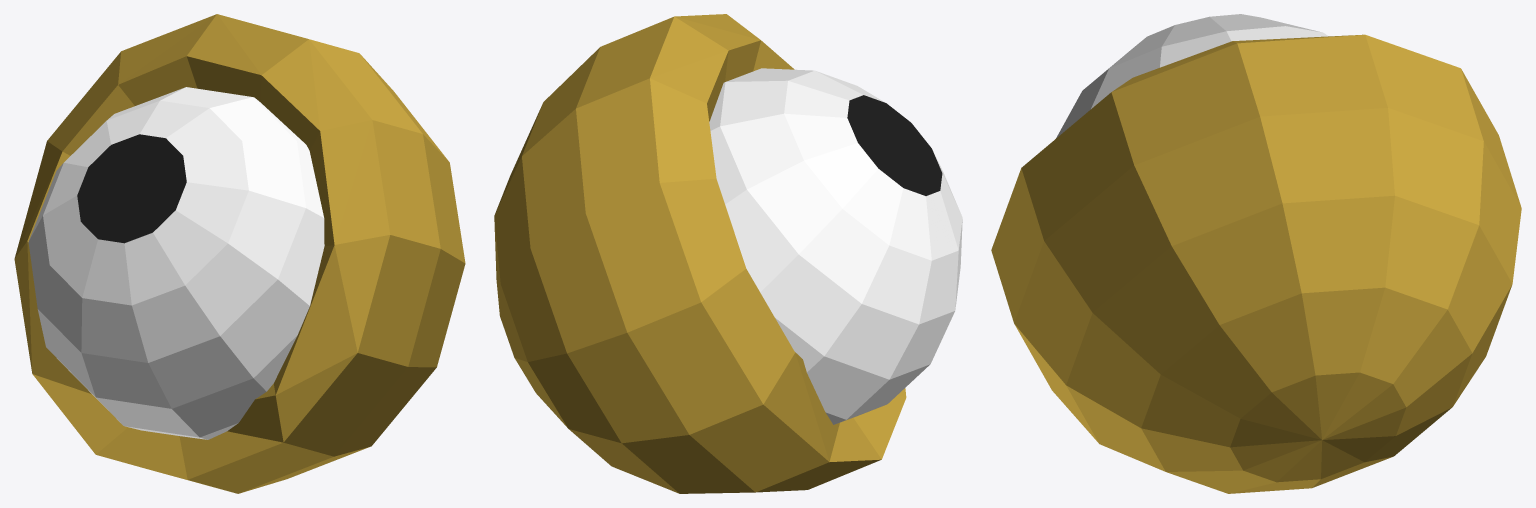
File: EyeOjoLoco.glb
The picture shows the model from 3 angles, left to right: view 1: azimuth 30°, elevation 25°; view 2: azimuth 150°, elevation 25°; view 3: azimuth 270°, elevation 25°; orthographic projection. The views are drawn at different scales.
Parts seen in each view (by area): view 1: EyeOjoLoco; view 2: EyeOjoLoco; view 3: EyeOjoLoco.
Part boxes in pixels (x1,y1,x2,y2): EyeOjoLoco: (14, 14, 465, 493); EyeOjoLoco: (494, 14, 962, 493); EyeOjoLoco: (991, 14, 1521, 493).
Bounding box in the file's own units: 0.7424 × 0.7691 × 0.7974.
